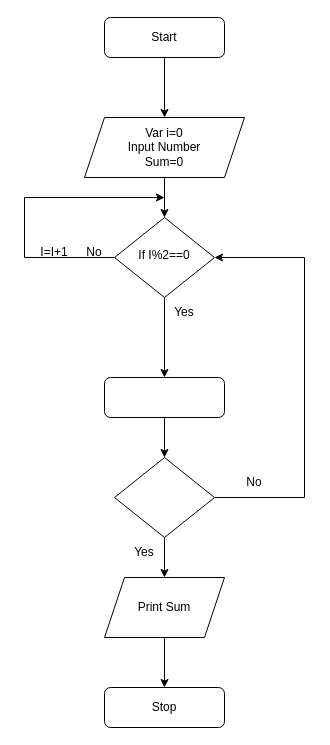
The diagram is 330 pixels wide and 745 high, and some of its shapes have lost their labels. Each missing label, with the centre of its shape:
If I>N: the point at 164,497
Sum=Sum+I: the point at 164,397
